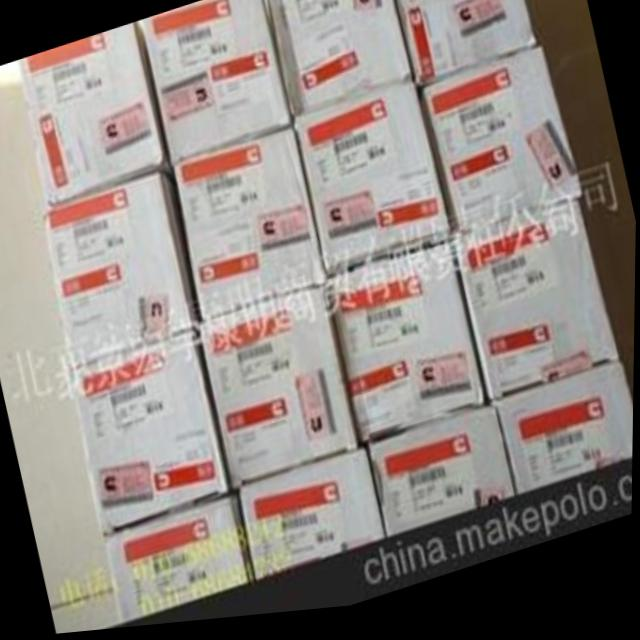box: (199, 290, 362, 497), (454, 211, 622, 410), (72, 333, 232, 539), (328, 248, 486, 454), (416, 55, 585, 246), (293, 88, 454, 284), (42, 171, 199, 370), (171, 131, 329, 327), (19, 23, 173, 206), (142, 0, 293, 172), (366, 412, 518, 544), (239, 452, 388, 585), (487, 371, 635, 504), (262, 0, 414, 128), (108, 495, 258, 623), (393, 0, 539, 97)
